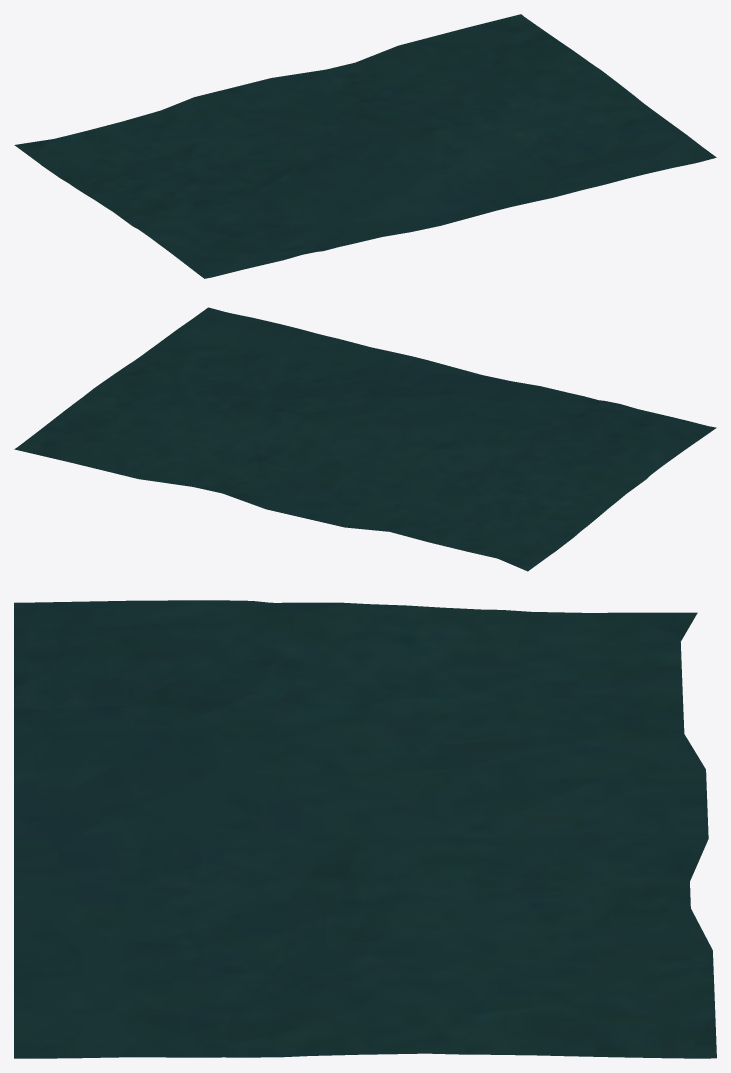
3 renders of one model, top to bottom at view 1: azimuth 30°, elevation 25°; view 2: azimuth 150°, elevation 25°; view 3: azimuth 270°, elevation 25°, orthographic. The views are drawn at different scales.
Bounding box in the file's own units: 52.22 × 0.8149 × 34.56.
Materials: 2 (2 with a texture image).
